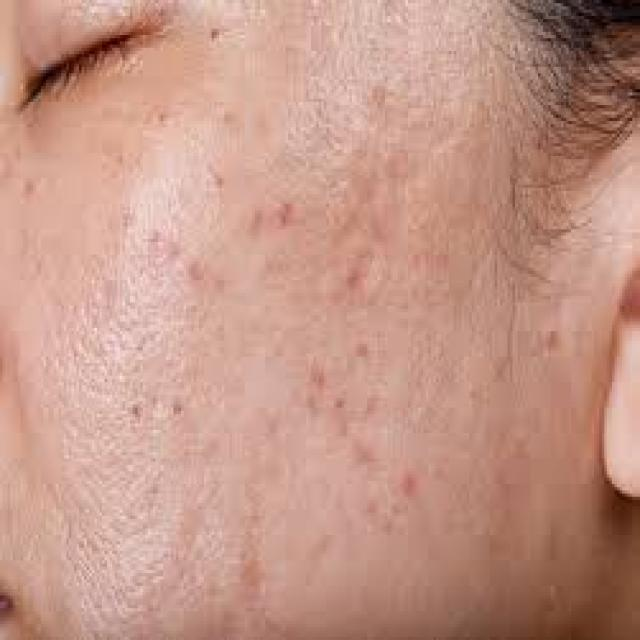Acne: (246, 182, 421, 512)
